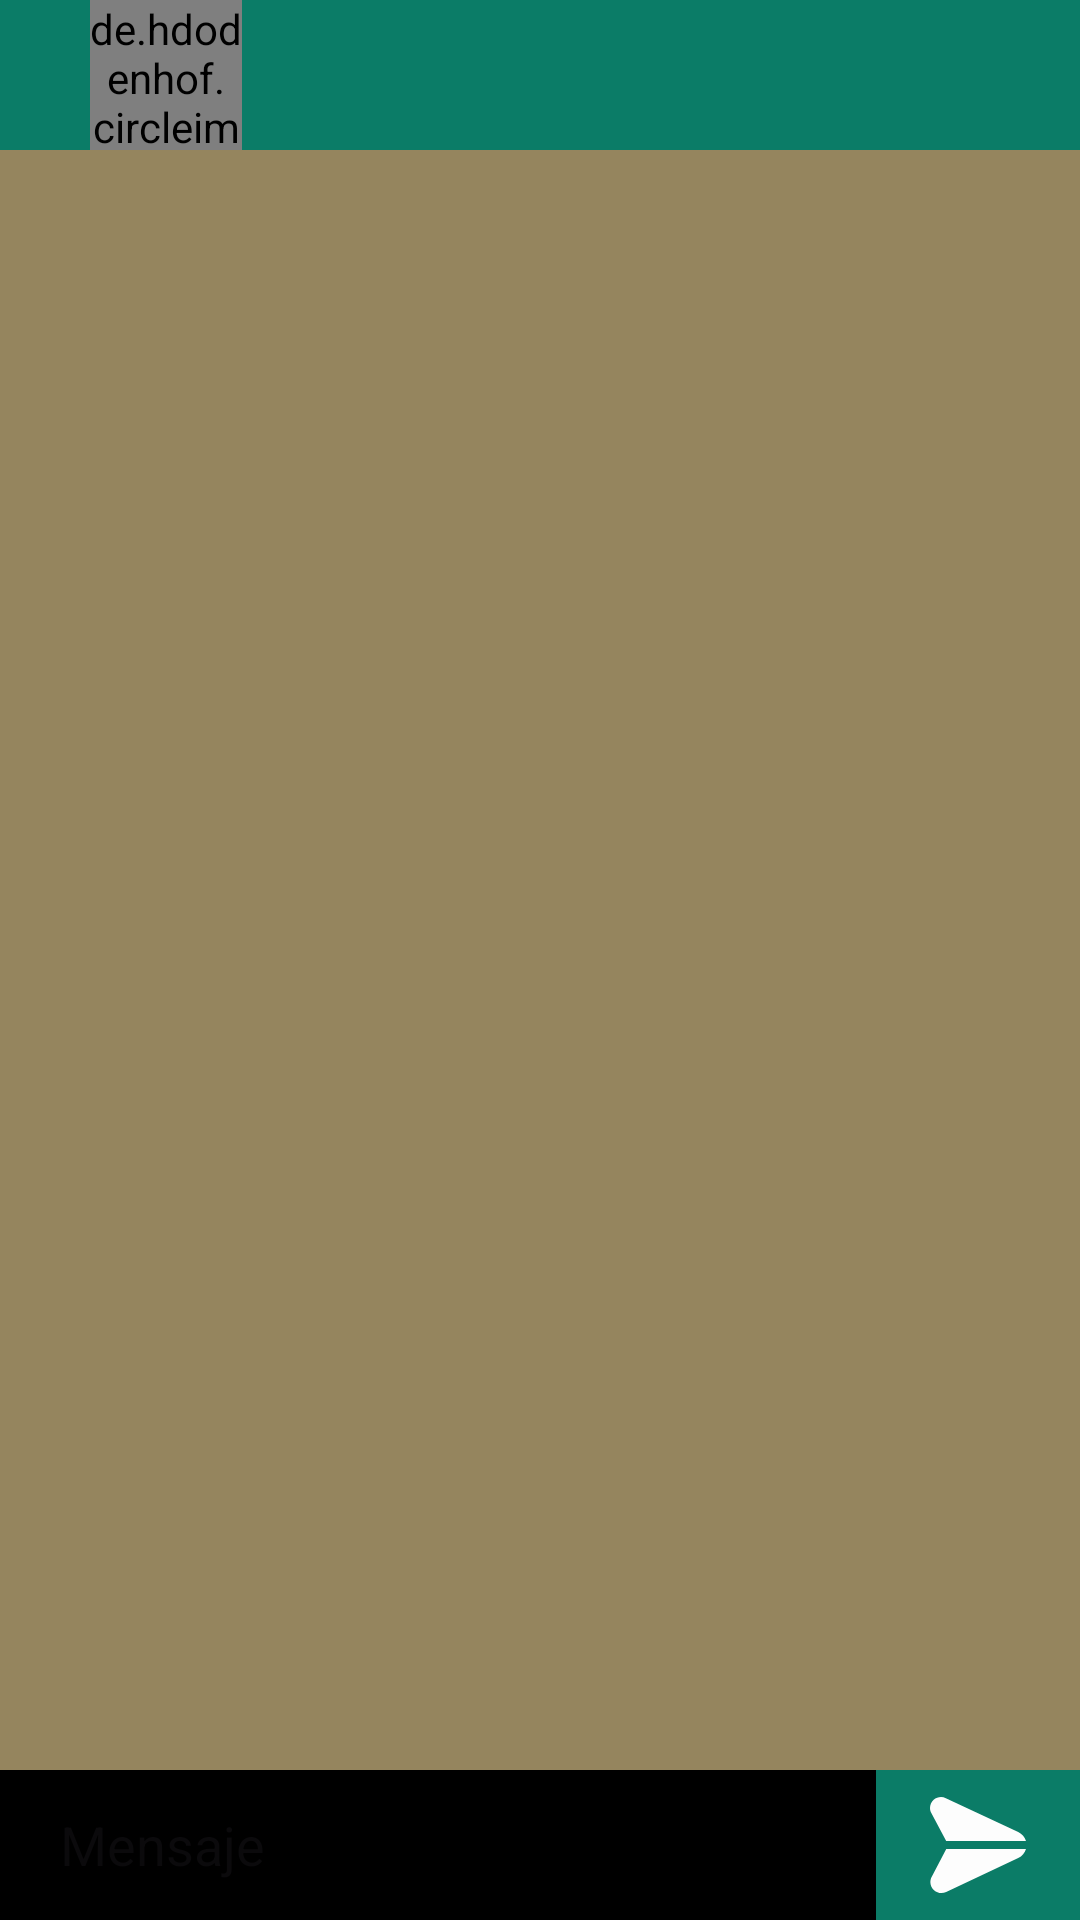

Named icons in this screenshot (1080 x 1920) and their centers, (x=x, y=y):
enviar: (x=978, y=1845)
